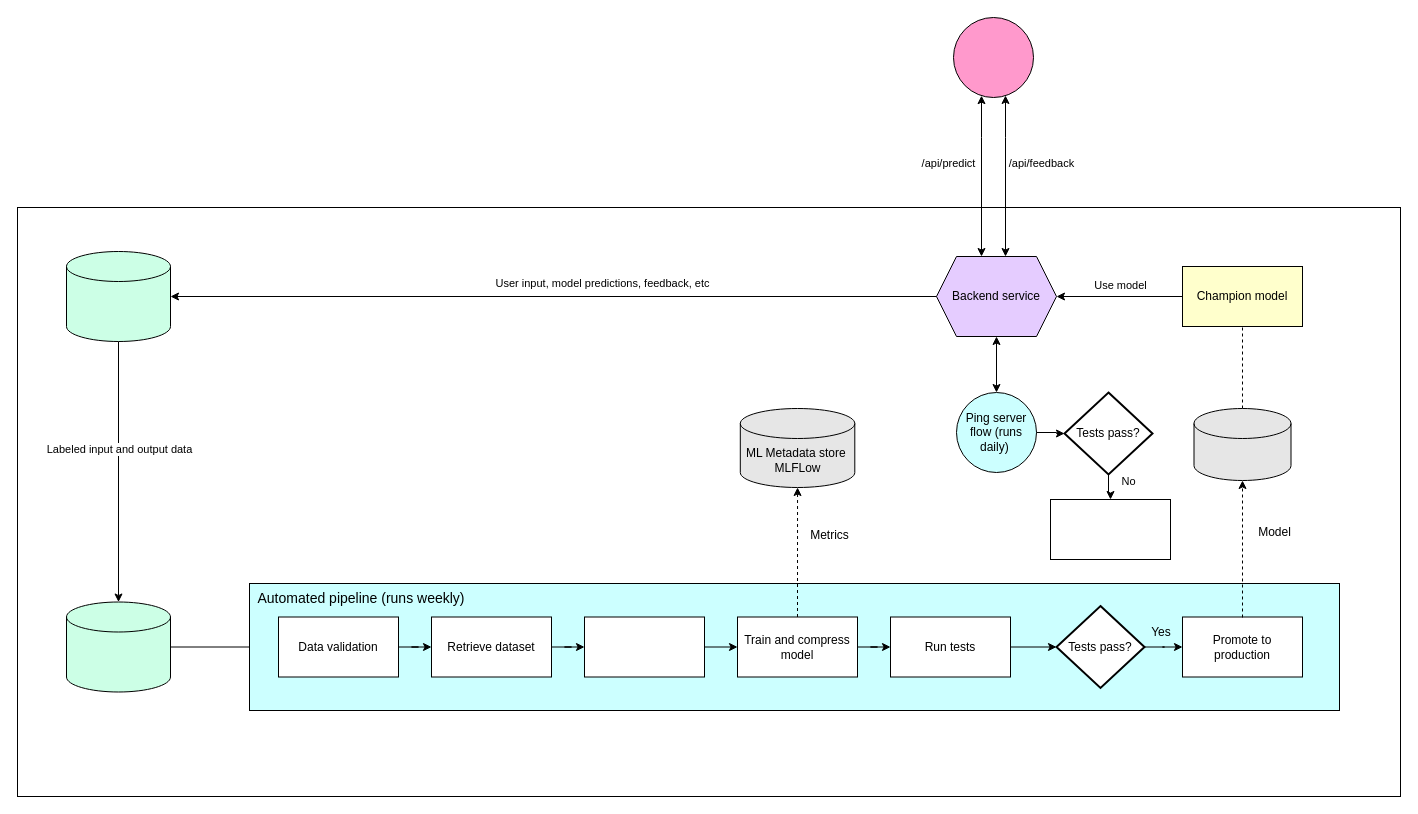
Some shapes in this 1418 by 814 pixel diagram are drawn without their labels. The centre of each missing label's shape, as x and y in pixels:
"Feature store SQL table" belongs at (x=118, y=646).
"Frontend" belongs at (x=993, y=57).
"Model registry MLFLow" belongs at (x=1242, y=444).
"Predict endpoint logs SQL table" belongs at (x=118, y=296).
"Preprocess data" belongs at (x=644, y=646).
"Send email" belongs at (x=1110, y=529).
